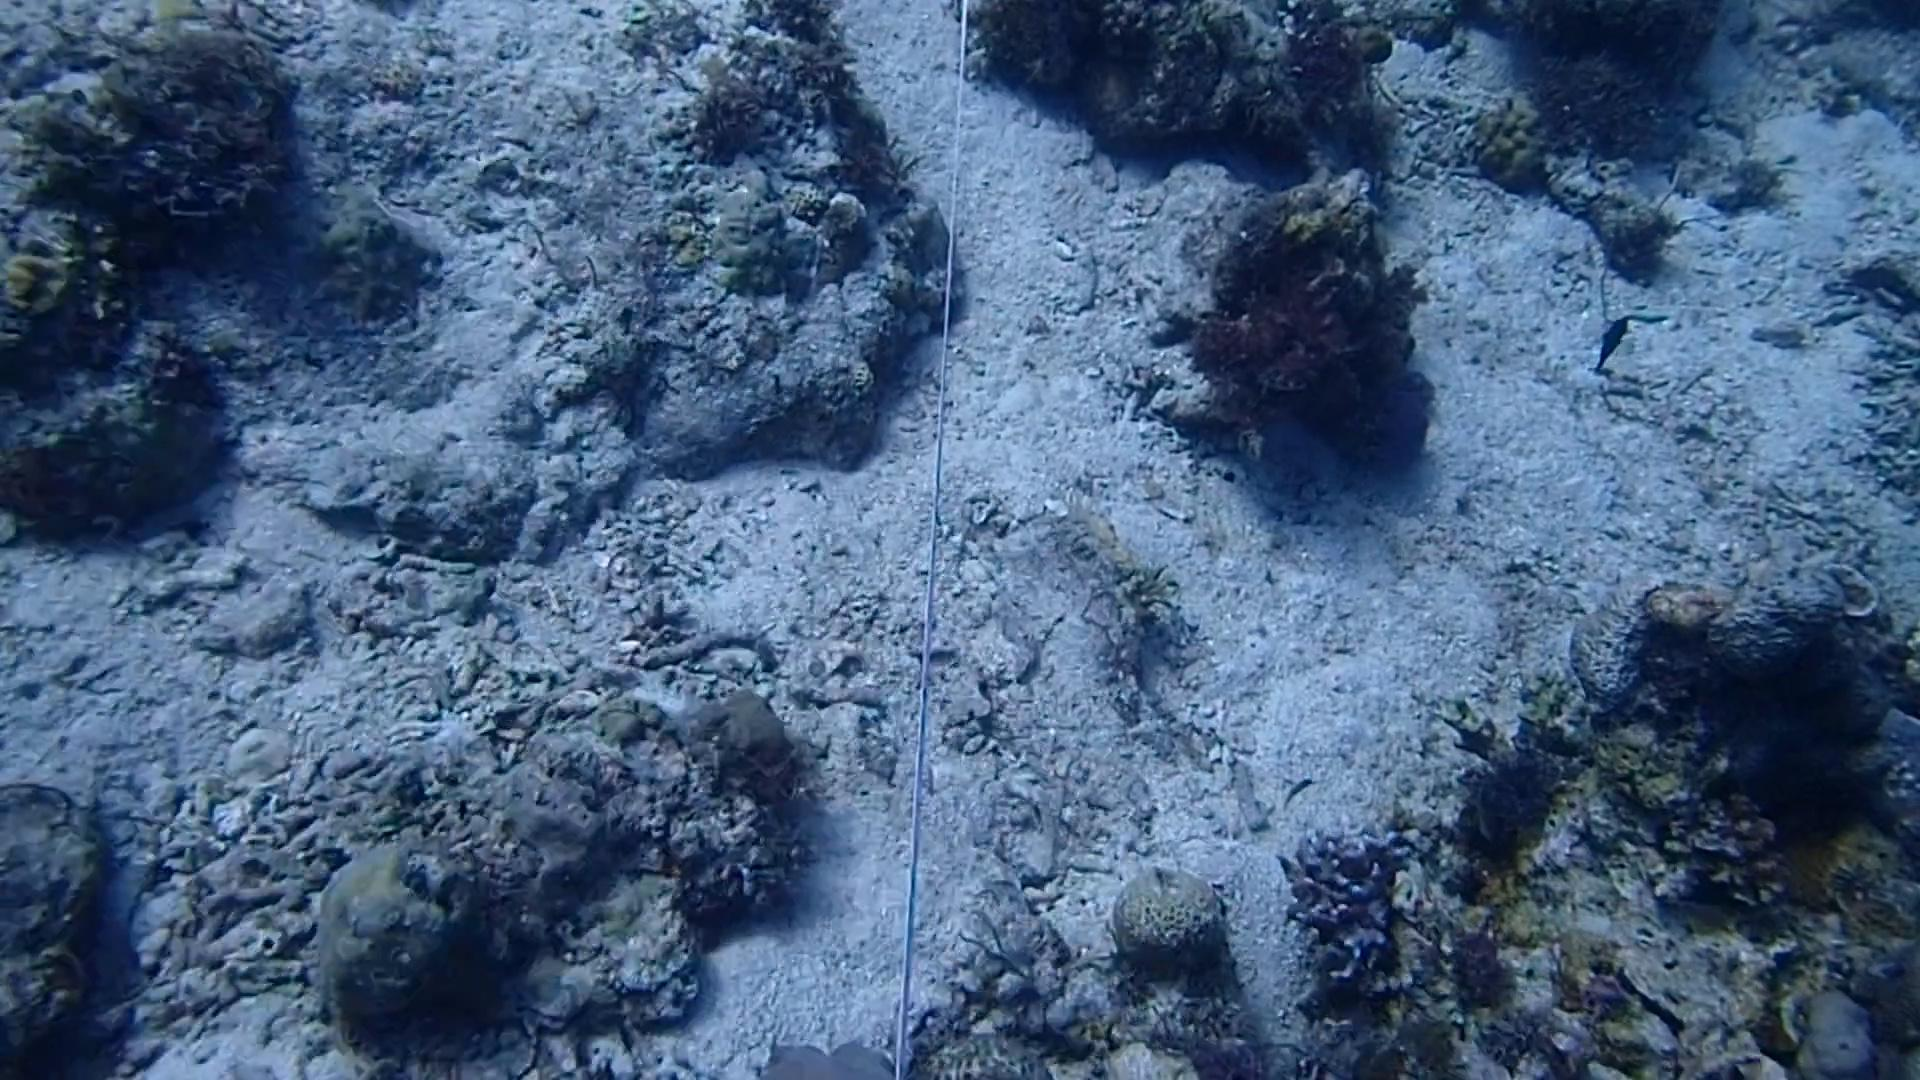Dark Fish: (1577, 306, 1651, 384)
